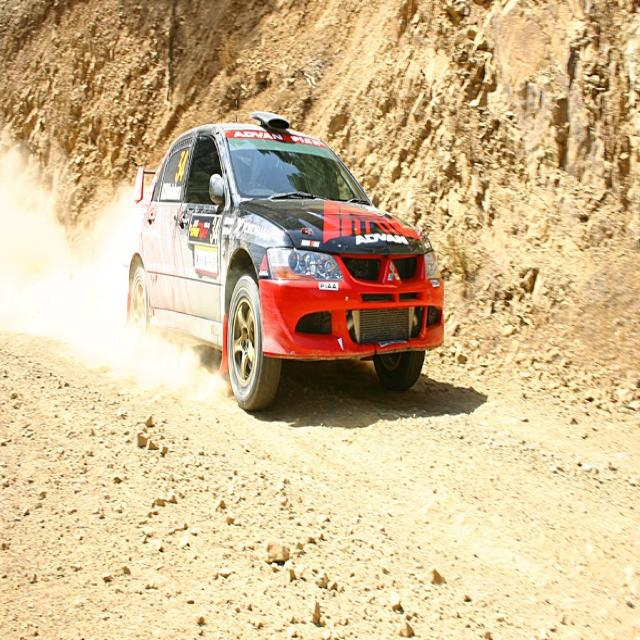car: (122, 95, 442, 415)
